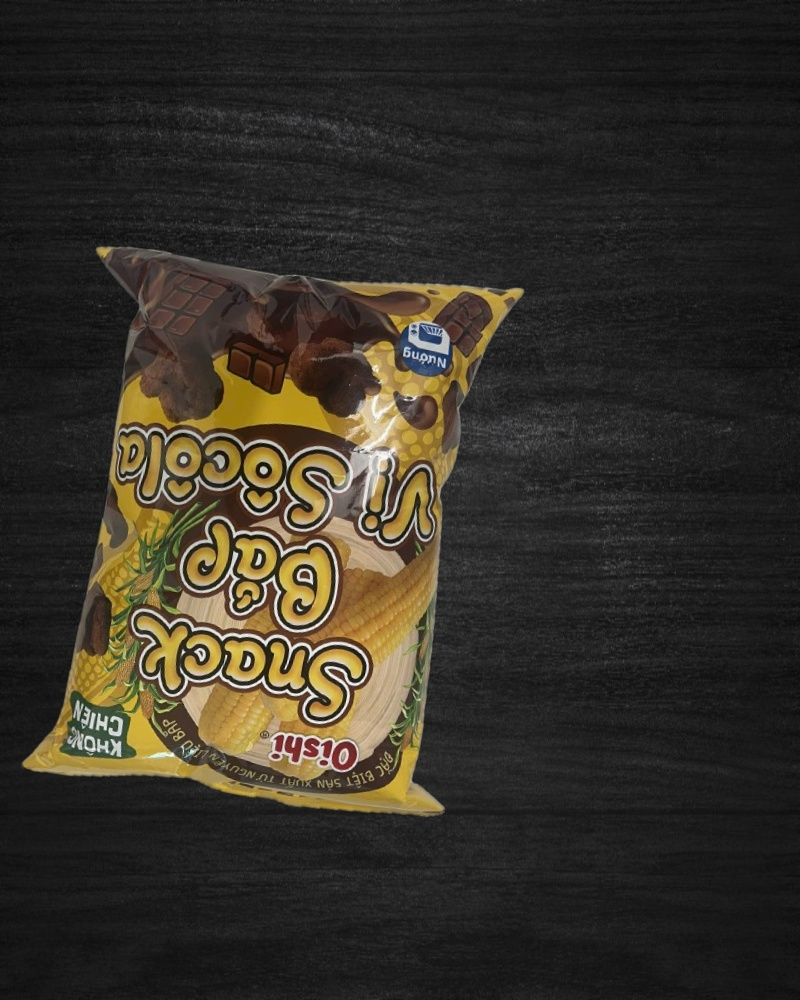Snack socola: (7, 218, 537, 842)
